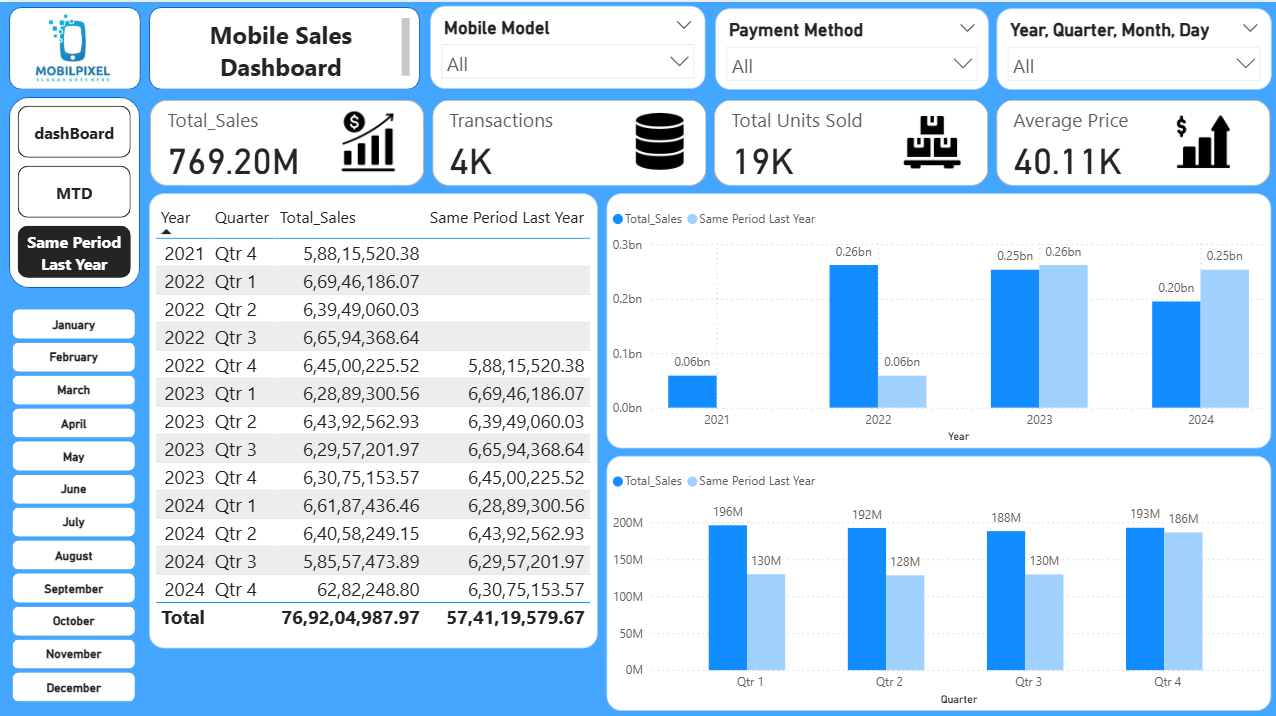

The dashboard page shown, as its layout file describes it:
{"tool":"powerbi","page":{"name":"Same Period Last Year","canvas":[1280,720],"ordinal":2},"visuals":[{"type":"shape","box":[9.5,5,131.8,82.7],"z":0},{"type":"shape","box":[10,95,131,191],"z":1000},{"type":"slicer","fields":{"Values":["Sales_data.Mobile Model"]},"box":[431.4,4.3,275,83.6],"z":2000},{"type":"slicer","fields":{"Values":["Sales_data.Payment Method"]},"box":[715.7,6.4,273.6,81.4],"z":3000},{"type":"slicer","fields":{"Values":["Personalized_Calender.Date.Variation.Date Hierarchy.Year","Personalized_Calender.Date.Variation.Date Hierarchy.Quarter","Personalized_Calender.Date.Variation.Date Hierarchy.Month","Personalized_Calender.Date.Variation.Date Hierarchy.Day"]},"box":[997.1,6.4,275,81.4],"z":4000},{"type":"shape","box":[150,5,270.9,82.7],"z":5000},{"type":"textbox","box":[155.9,11.4,259.1,70.5],"z":6000},{"type":"image","box":[30,0,90,91.4],"z":7000},{"type":"advancedSlicerVisual","fields":{"Values":["Personalized_Calender.Date.Variation.Date Hierarchy.Month"]},"box":[9,302.8,132.2,411.1],"z":8000},{"type":"tableEx","fields":{"Values":["Personalized_Calender.Date.Variation.Date Hierarchy.Year","Personalized_Calender.Date.Variation.Date Hierarchy.Quarter","Sales_data.Total_Sales","Sales_data.Same Period Last Year"]},"box":[150,191.2,448.8,455],"z":9000},{"type":"clusteredColumnChart","fields":{"Category":["Personalized_Calender.Date.Variation.Date Hierarchy.Year","Personalized_Calender.Date.Variation.Date Hierarchy.Quarter"],"Y":["Sales_data.Total_Sales","Sales_data.Same Period Last Year"]},"box":[607.5,191.2,665,255],"z":10000},{"type":"clusteredColumnChart","fields":{"Category":["Personalized_Calender.Date.Variation.Date Hierarchy.Year","Personalized_Calender.Date.Variation.Date Hierarchy.Quarter"],"Y":["Sales_data.Total_Sales","Sales_data.Same Period Last Year"]},"box":[607.5,453.8,665,255],"z":11000},{"type":"pageNavigator","box":[18.8,103.8,113.8,172.5],"z":12000},{"type":"cardVisual","fields":{"Data":["Sales_data.Total_Sales","Sales_data.Transactions","Sum(Sales_data.Units Sold)","Avg(Sales_data.Price Per Unit)"]},"box":[145.7,88.1,1131,101.4],"z":13000},{"type":"image","box":[333.8,103.8,71.2,71.2],"z":14000},{"type":"image","box":[900,105,66.2,70],"z":15000},{"type":"image","box":[1171.2,106.2,66.2,67.5],"z":16000},{"type":"image","box":[627.5,103.8,66.2,71.2],"z":17000}]}

Visuals, with their boxes in screenshot pixels (x1, y1, x2, y2), scaled from the page's 1280x720 canvas onto the 1276x716 screenshot:
shape: left=9, top=5, right=141, bottom=87
shape: left=10, top=94, right=141, bottom=284
slicer - Sales_data.Mobile Model: left=430, top=4, right=704, bottom=87
slicer - Sales_data.Payment Method: left=713, top=6, right=986, bottom=87
slicer - Personalized_Calender.Date.Variation.Date Hierarchy.Year x Personalized_Calender.Date.Variation.Date Hierarchy.Quarter: left=994, top=6, right=1268, bottom=87
shape: left=150, top=5, right=420, bottom=87
textbox: left=155, top=11, right=414, bottom=81
image: left=30, top=0, right=120, bottom=91
advancedSlicerVisual - Personalized_Calender.Date.Variation.Date Hierarchy.Month: left=9, top=301, right=141, bottom=710
tableEx - Personalized_Calender.Date.Variation.Date Hierarchy.Year x Personalized_Calender.Date.Variation.Date Hierarchy.Quarter: left=150, top=190, right=597, bottom=643
clusteredColumnChart - Personalized_Calender.Date.Variation.Date Hierarchy.Year x Personalized_Calender.Date.Variation.Date Hierarchy.Quarter: left=606, top=190, right=1269, bottom=444
clusteredColumnChart - Personalized_Calender.Date.Variation.Date Hierarchy.Year x Personalized_Calender.Date.Variation.Date Hierarchy.Quarter: left=606, top=451, right=1269, bottom=705
pageNavigator: left=19, top=103, right=132, bottom=275
cardVisual - Sales_data.Total_Sales x Sales_data.Transactions: left=145, top=88, right=1273, bottom=188
image: left=333, top=103, right=404, bottom=174
image: left=897, top=104, right=963, bottom=174
image: left=1168, top=106, right=1234, bottom=173
image: left=626, top=103, right=692, bottom=174
